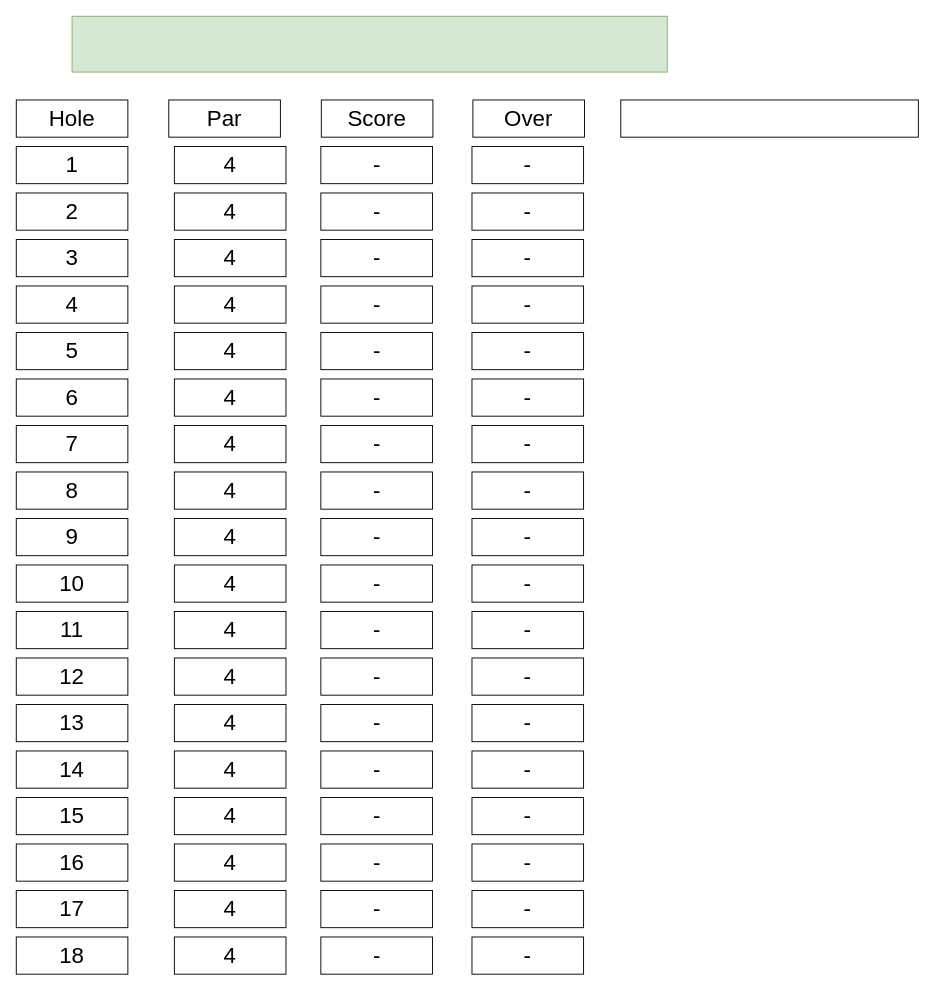
Image size: 935x990. Some labels were removed from this diagram. Each missing label, with the centre of its shape:
"Actions" belongs at point 769,118.
"Golf Scorecard" belongs at point 369,43.
